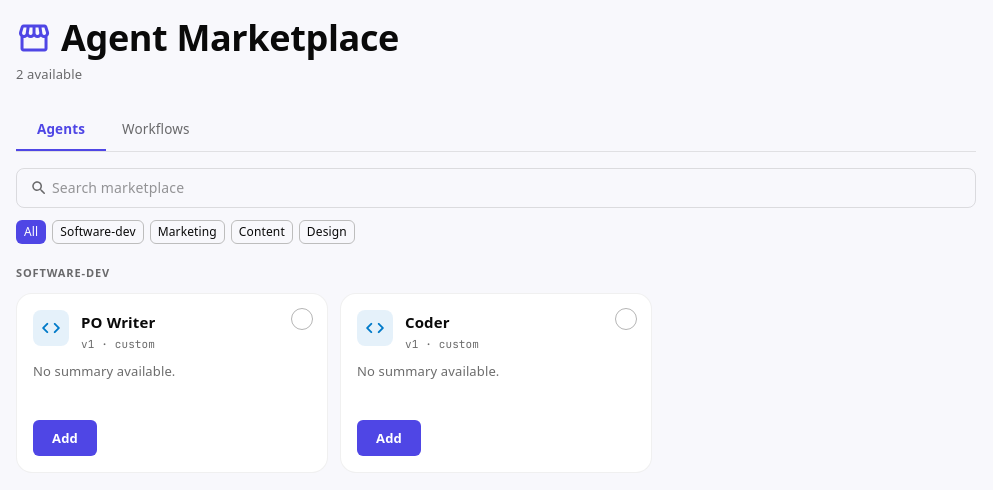
Test: Marketplace — Workflows tab › switches from Agents to the shipped workflows
expect the heading "Agent Marketplace" is shown: met, box [16, 13, 399, 62]
Step 1. Click the tab "Workflows" → (156, 130), box [106, 109, 206, 151]
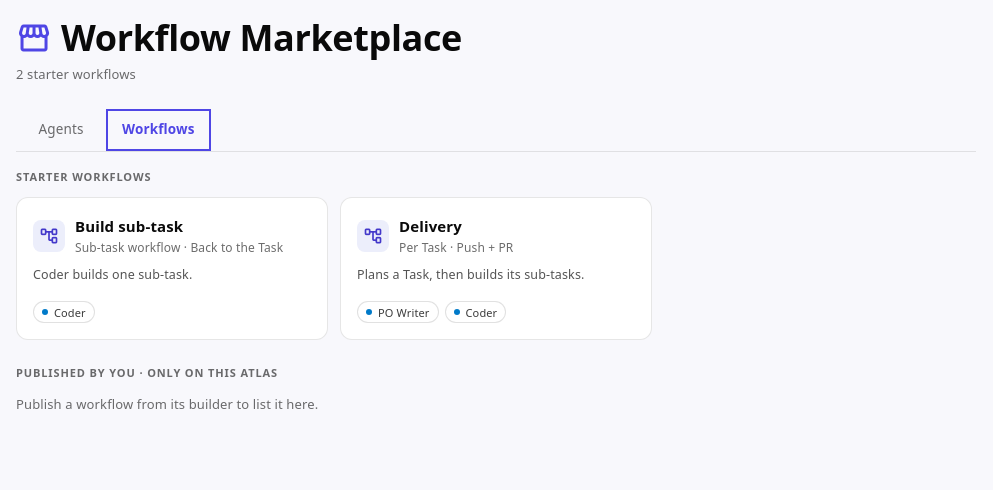
expect the heading "Workflow Marketplace" is shown: met, box [16, 13, 462, 62]
expect the button "Delivery" is shown: met, box [340, 197, 652, 340]
expect the text "2 starter workflows" is shown: met, box [16, 65, 136, 83]
